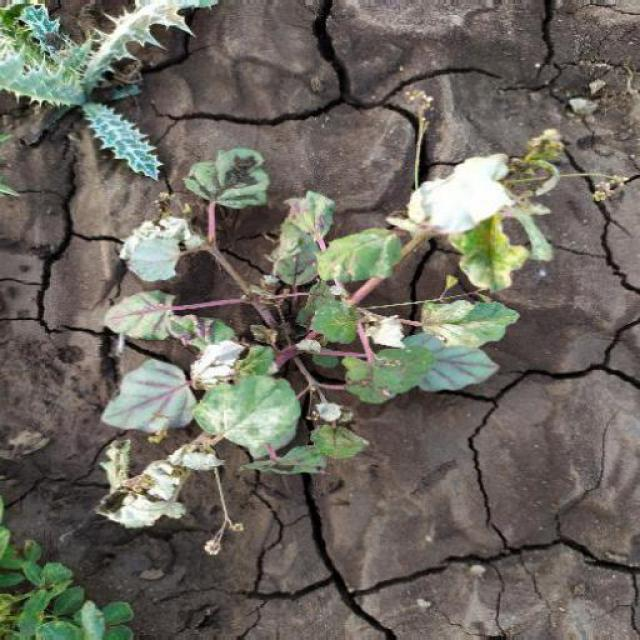weed: (79, 151, 532, 554), (2, 1, 226, 185)
